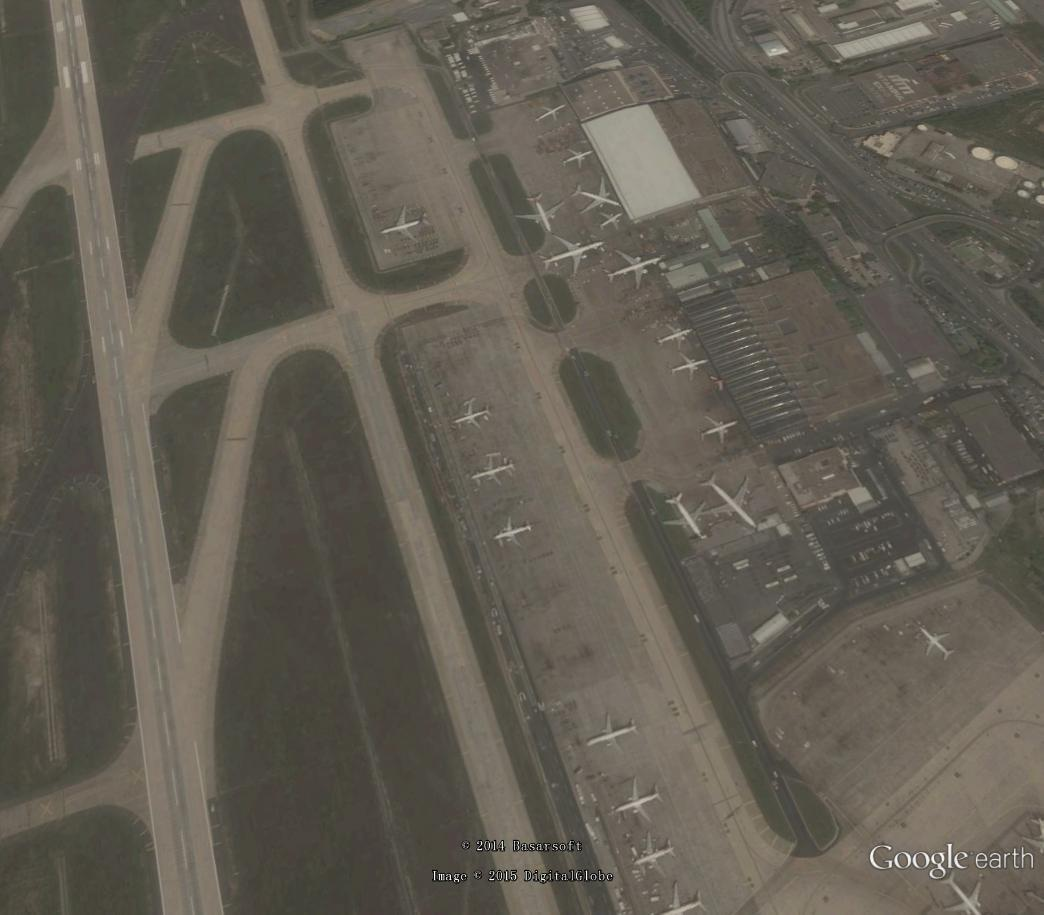aircraft: (695, 472, 765, 532), (535, 230, 611, 283), (603, 243, 667, 294), (580, 709, 645, 758), (611, 774, 668, 827), (931, 863, 988, 914), (513, 192, 572, 239), (657, 491, 710, 543), (570, 172, 626, 220), (632, 830, 682, 883), (377, 201, 434, 246), (696, 414, 744, 456), (656, 881, 715, 914), (469, 452, 520, 490), (490, 512, 539, 551), (664, 349, 711, 389), (918, 624, 959, 665), (452, 396, 495, 433), (652, 322, 696, 358), (559, 146, 597, 175), (591, 209, 629, 235), (531, 104, 571, 128), (703, 373, 731, 396)
